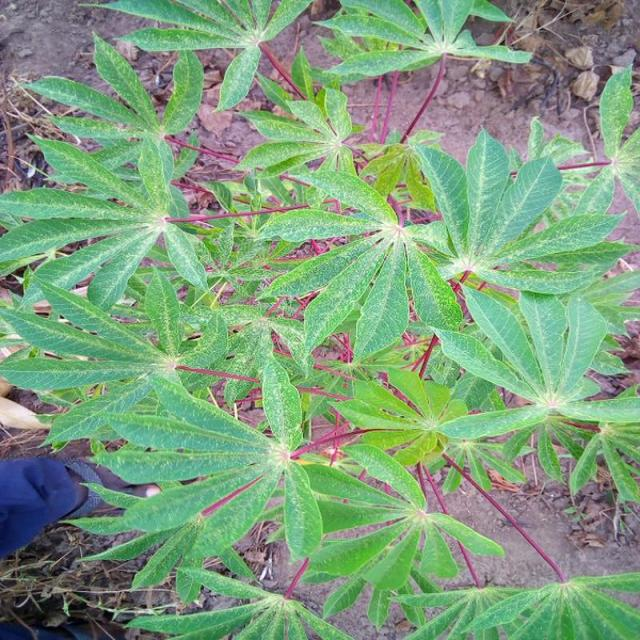Mosaico: (321, 355, 473, 474), (115, 49, 213, 154), (356, 121, 455, 208)
